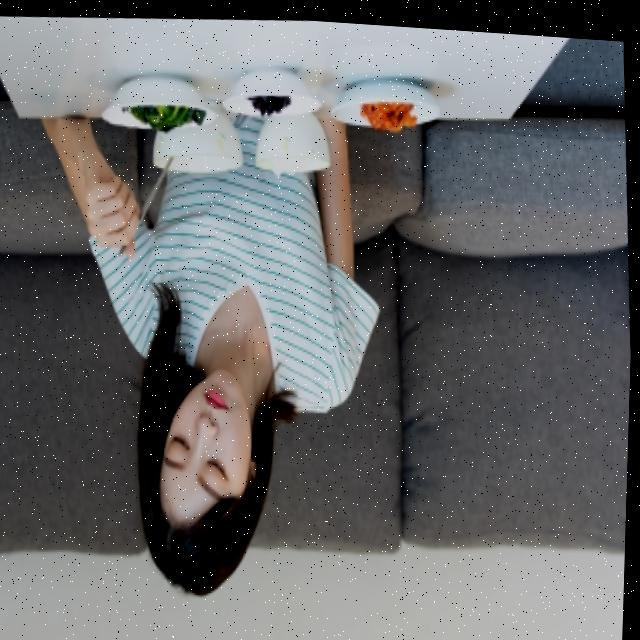eating-person: (29, 19, 465, 639)
